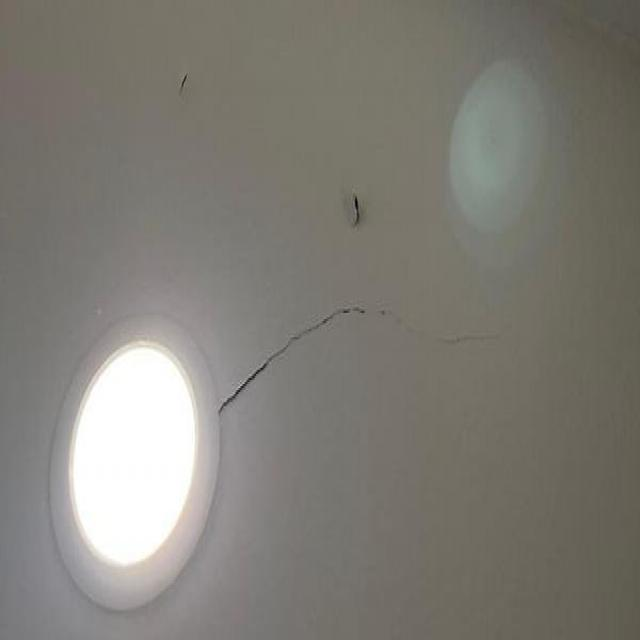leak: (216, 298, 503, 413)
